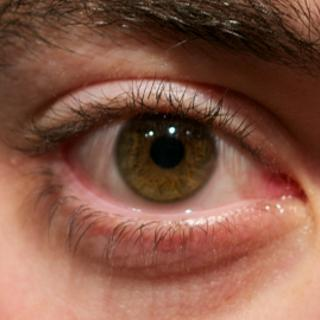pupil: (150, 135, 184, 169)
